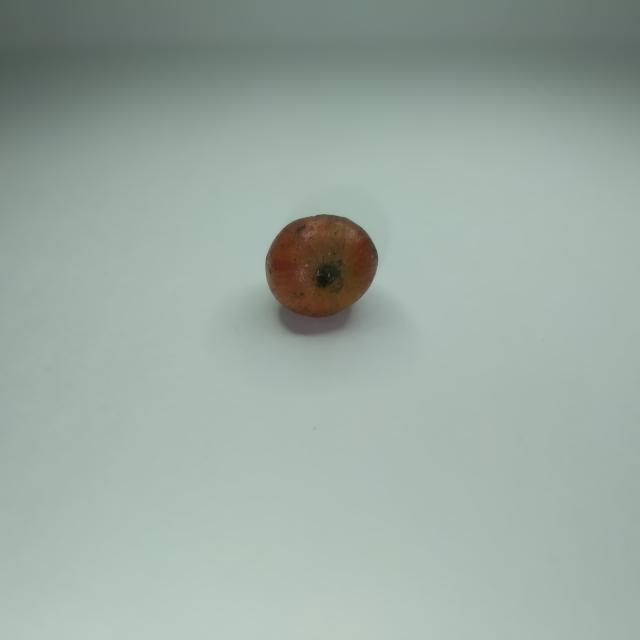Infectado: (266, 214, 377, 319)
